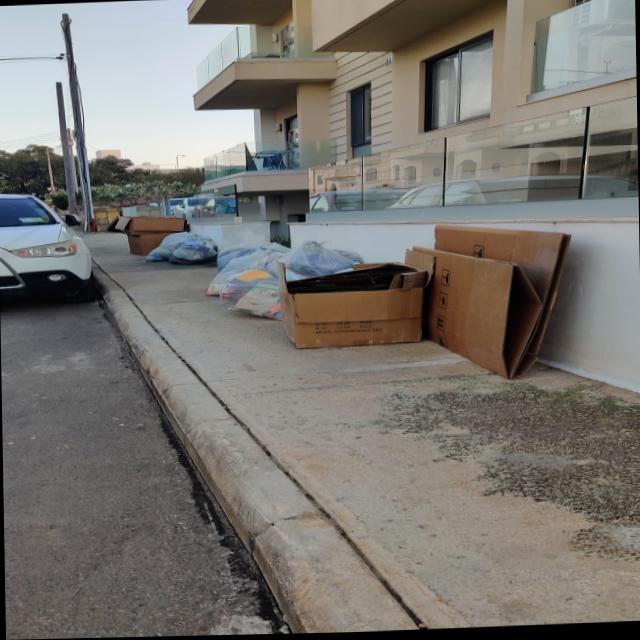Others Waste: (276, 224, 575, 384), (107, 214, 185, 254)
Recyclable Material -Grey Bags-: (140, 232, 365, 322)
